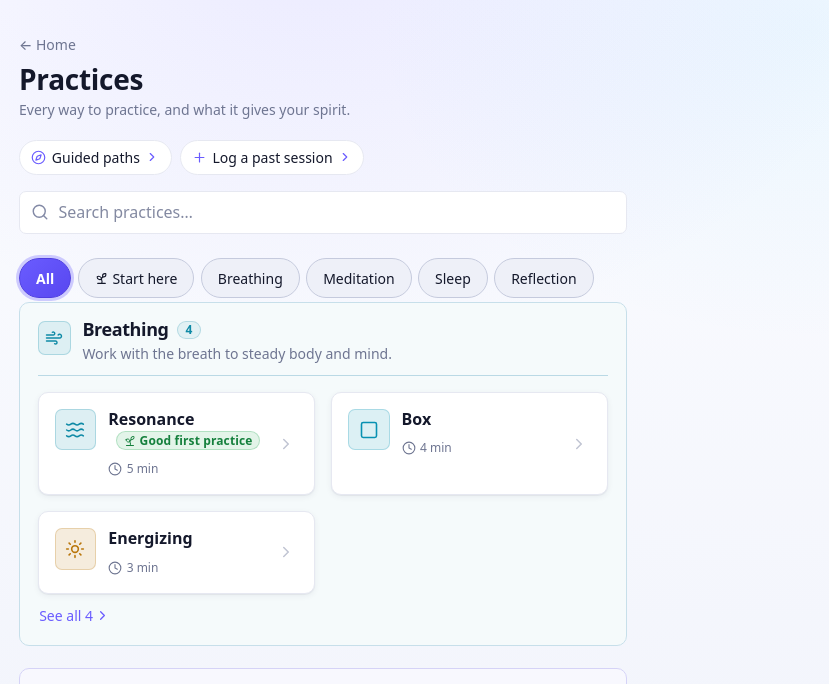
PracticesPage — search filter › matches the description too, case-insensitively
Type "NADI" into the search field labelled "Search practices…" at [323, 212], box 19,190 -> 627,234
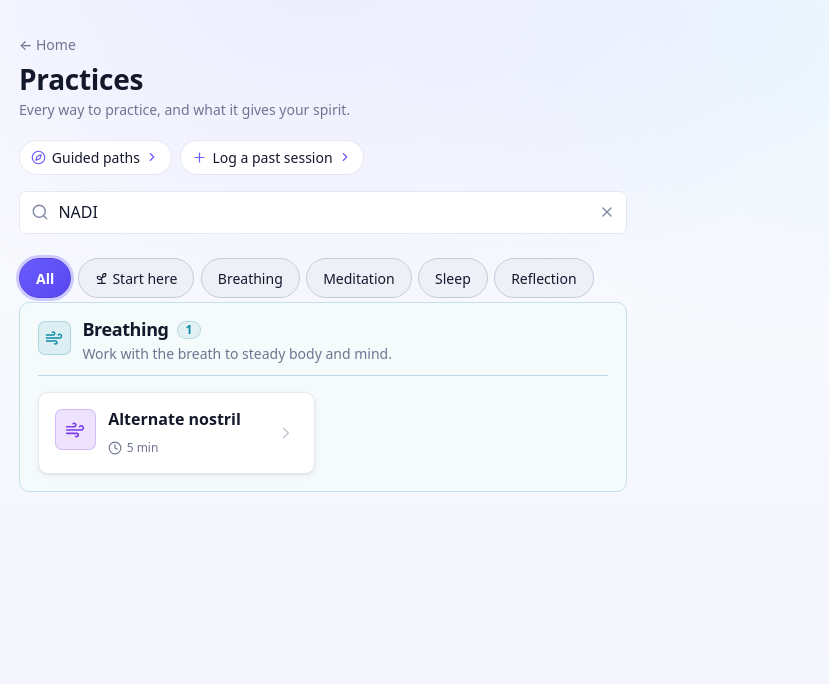
Result: the link "Alternate nostril 5 min" is shown at 38,392 -> 315,474
Result: the link "Resonance" is gone
